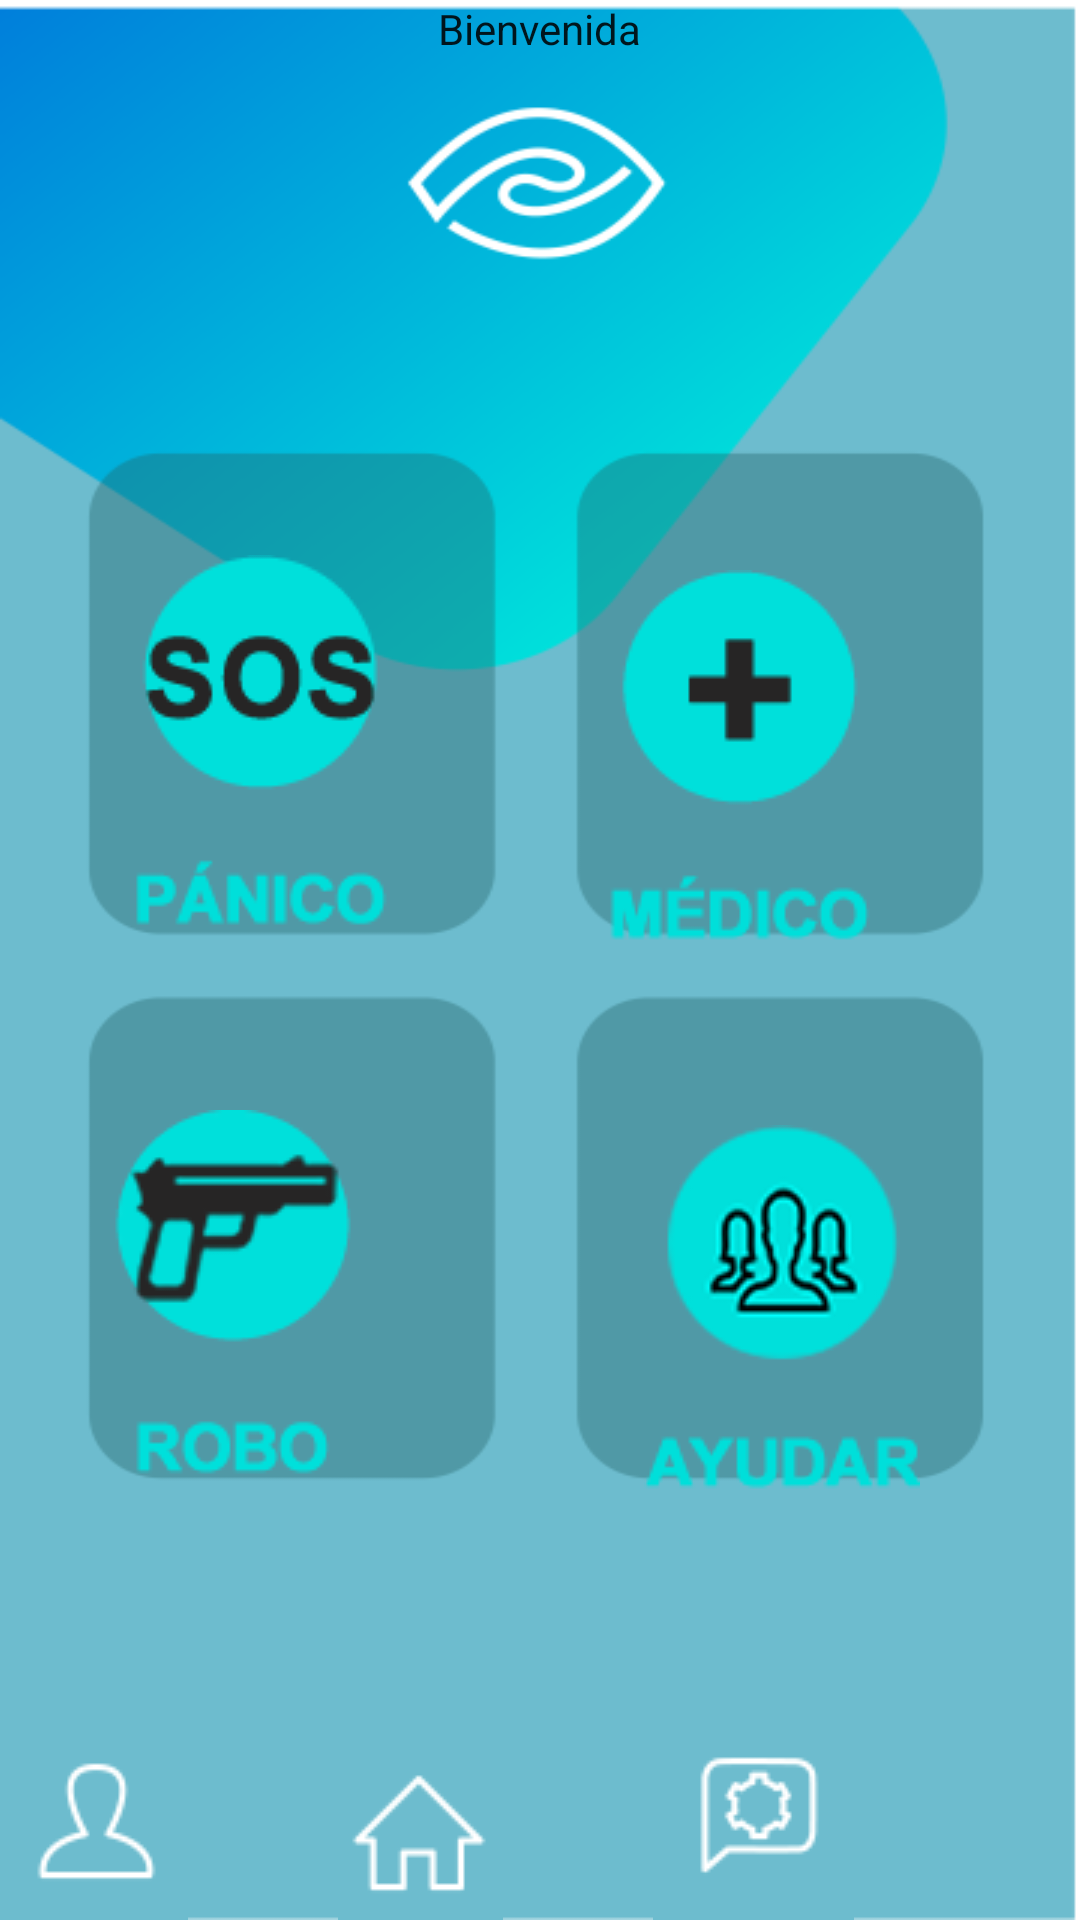

Where to tap for icons on this 1080 × 1920 app screen, as point (x, y):
menuprincipal iconoambulancia: point (739, 730)
menuprincipal iconoayudavecino: point (782, 1243)
menuprincipal inicio: point (419, 1833)
menuprincipal perfil: point (96, 1821)
